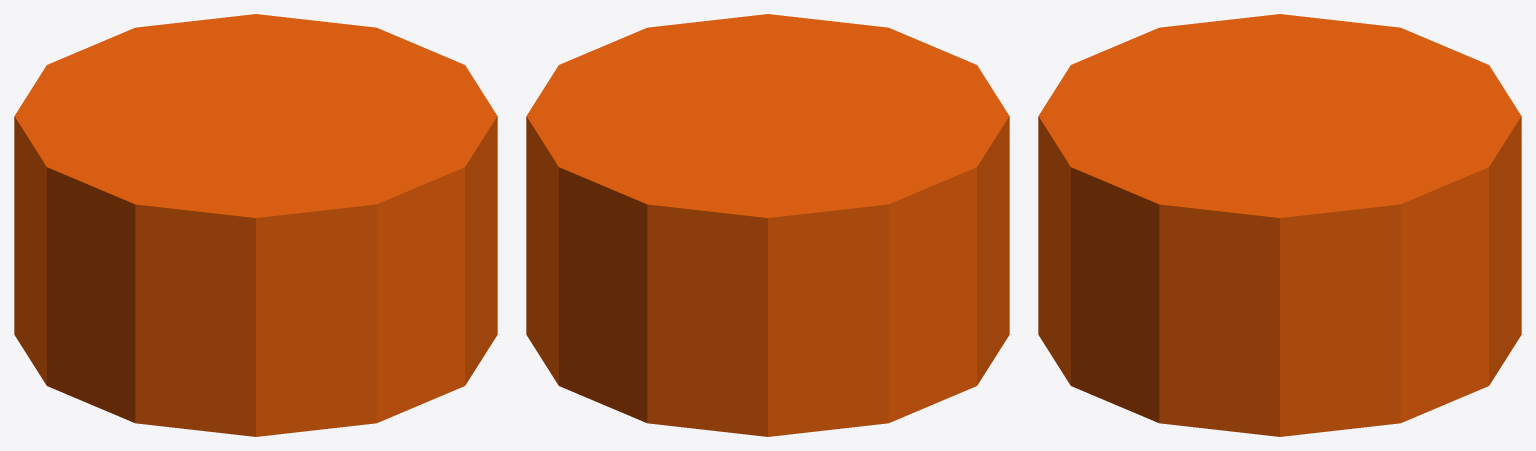
Rendered from ABBIRB1300Link6.dae.
3 views of the same model, side by side, from view 1: azimuth 30°, elevation 25°; view 2: azimuth 150°, elevation 25°; view 3: azimuth 270°, elevation 25° (orthographic).
Visible parts, largest first — view 1: Cylinder; view 2: Cylinder; view 3: Cylinder.
Part boxes in pixels (bbox=[...]): Cylinder: bbox=[14, 14, 497, 436]; Cylinder: bbox=[526, 14, 1009, 436]; Cylinder: bbox=[1038, 14, 1521, 436].
Bounding box in the file's own units: 0.002 × 0.002 × 0.001.
